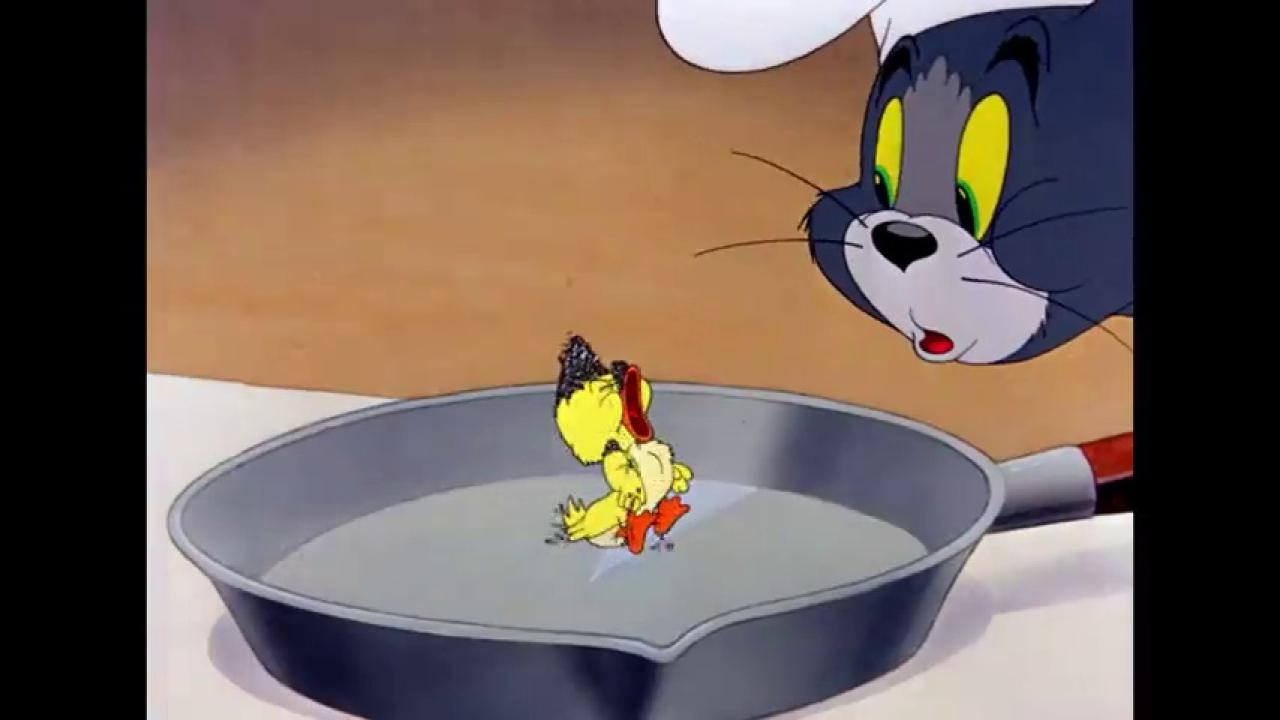Tom: (798, 0, 1132, 368)
